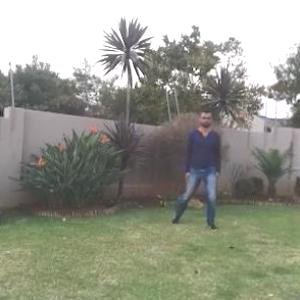follow: (185, 103, 220, 225)
